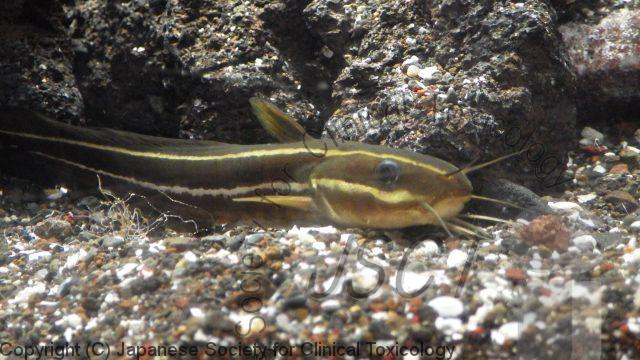gonzui: (1, 95, 501, 250)
